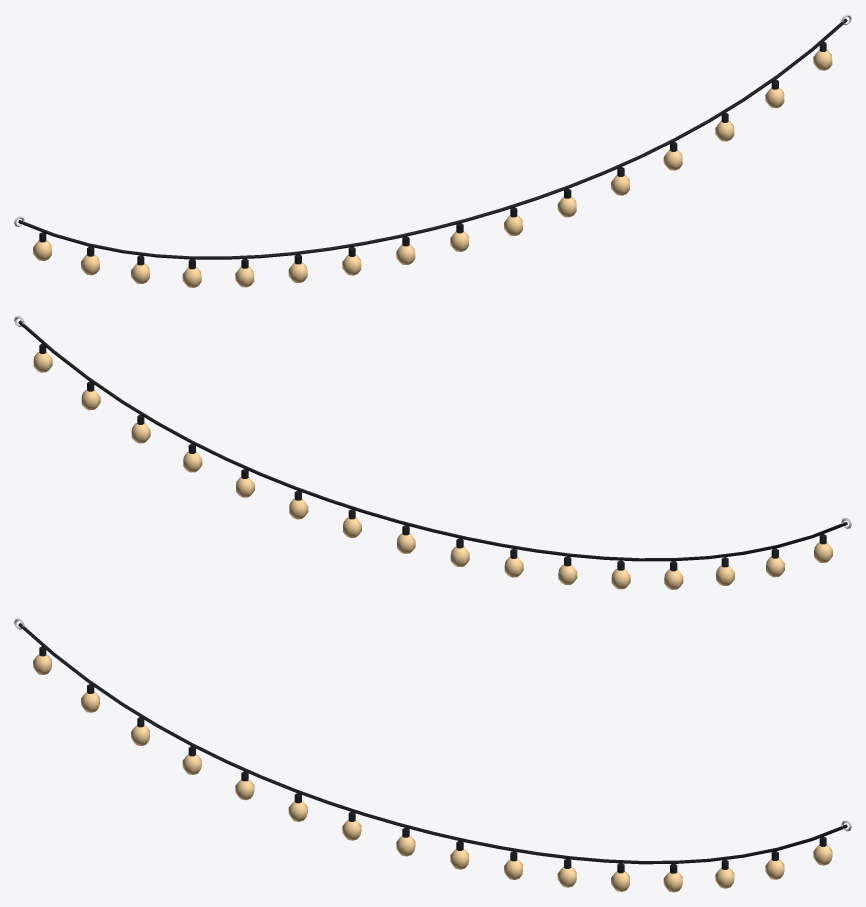
The model's file is Lobby_FestoonSpan.fbx.
The picture shows the model from 3 angles, top to bottom: view 1: azimuth 30°, elevation 25°; view 2: azimuth 150°, elevation 25°; view 3: azimuth 330°, elevation 25°; orthographic projection.
Parts seen in each view (by area): view 1: Bulbs, Cable; view 2: Bulbs, Cable; view 3: Bulbs, Cable.
Part boxes in pixels (x1,y1,x2,y2): Bulbs: [33, 50, 832, 287]; Cable: [18, 18, 847, 269]; Bulbs: [33, 352, 832, 589]; Cable: [18, 320, 847, 571]; Bulbs: [33, 654, 832, 892]; Cable: [18, 623, 847, 873].
Size of the model in its own units: 2431 by 397 by 48.22.
